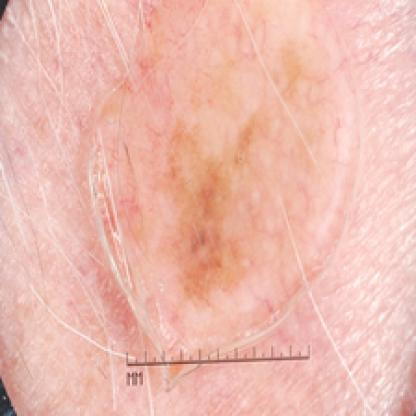malignant: (87, 35, 340, 288)
